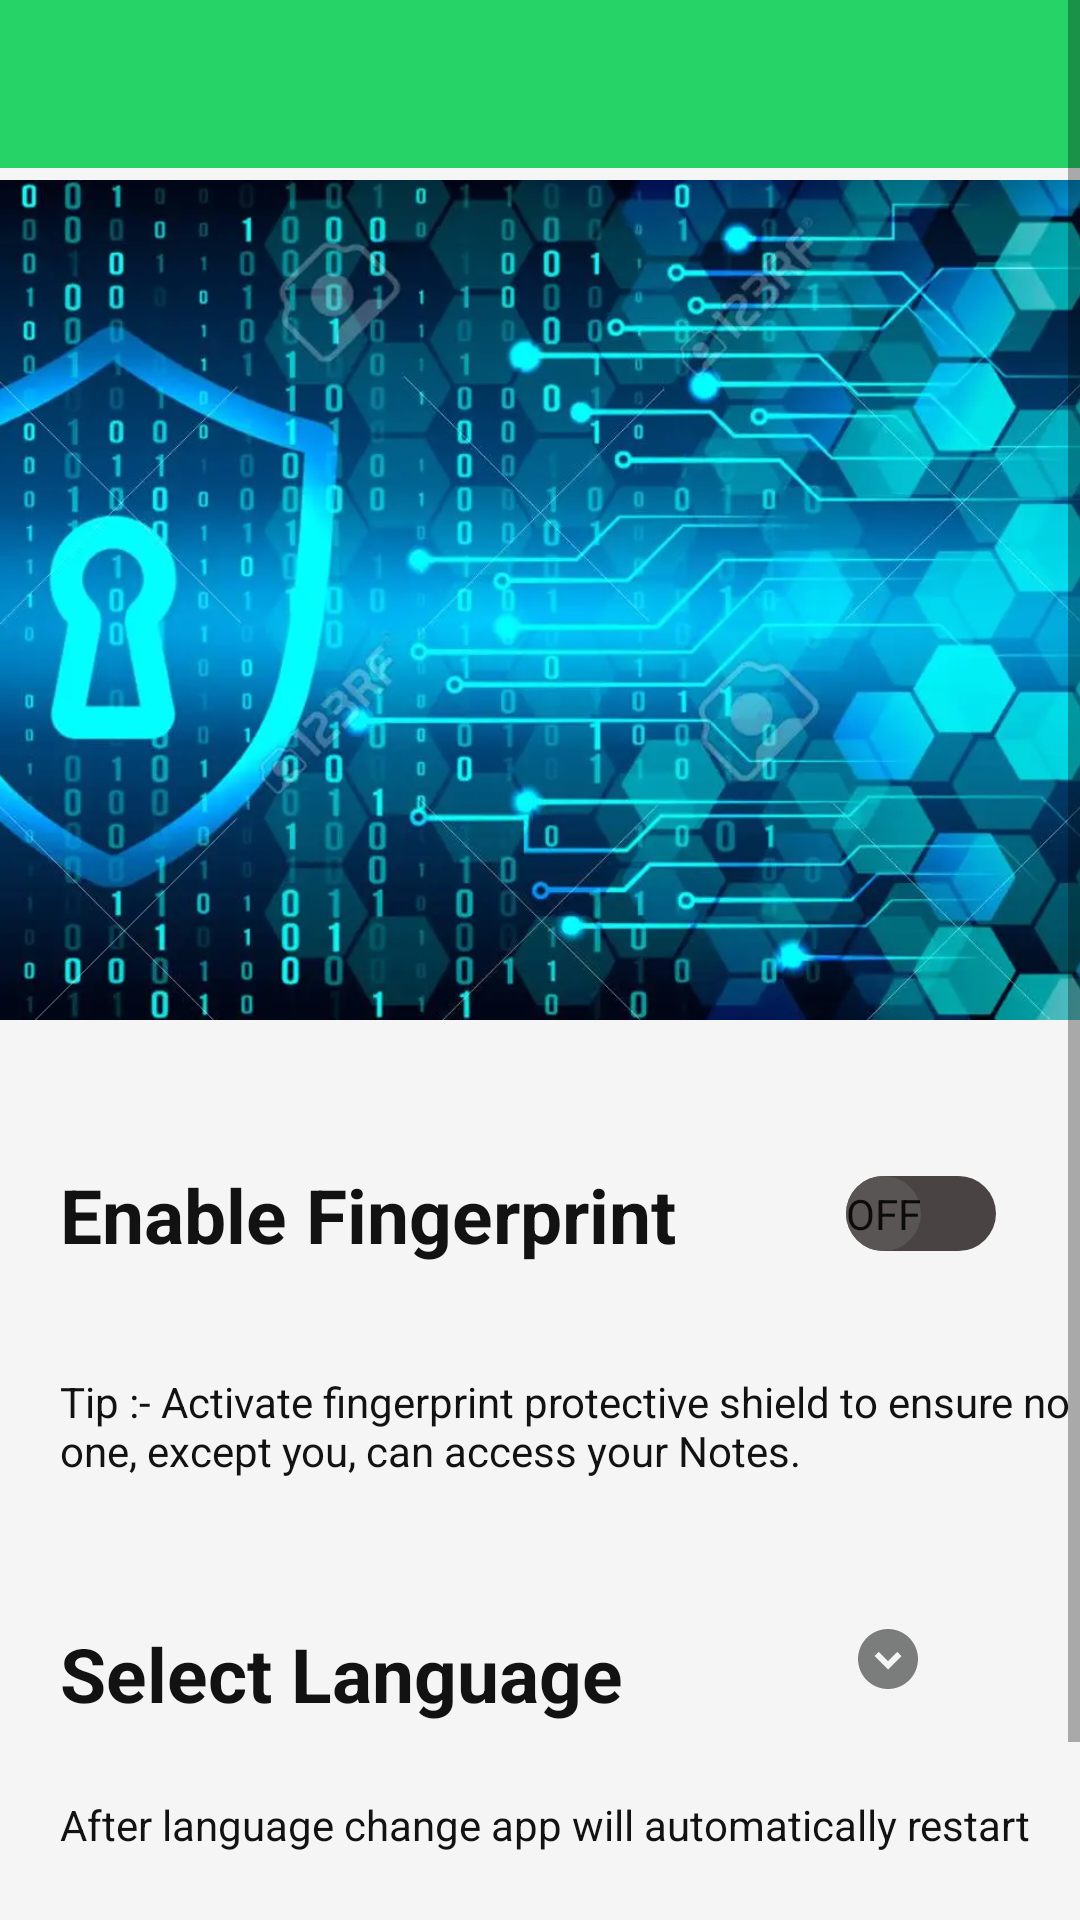

Screen size 1080×1920. Icon name, then its center in pixels as point (x, y):
expand circle down: point (888, 1659)
